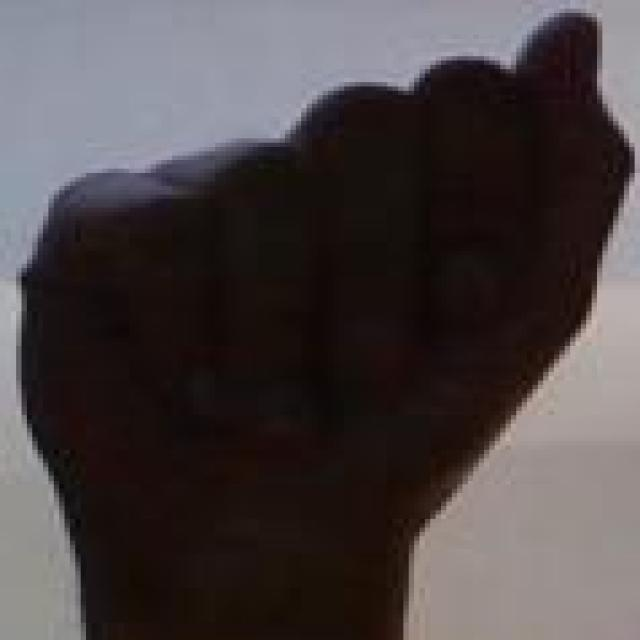A: (4, 6, 640, 614)
